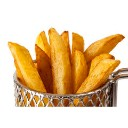frenchfries: (6, 34, 128, 86)
